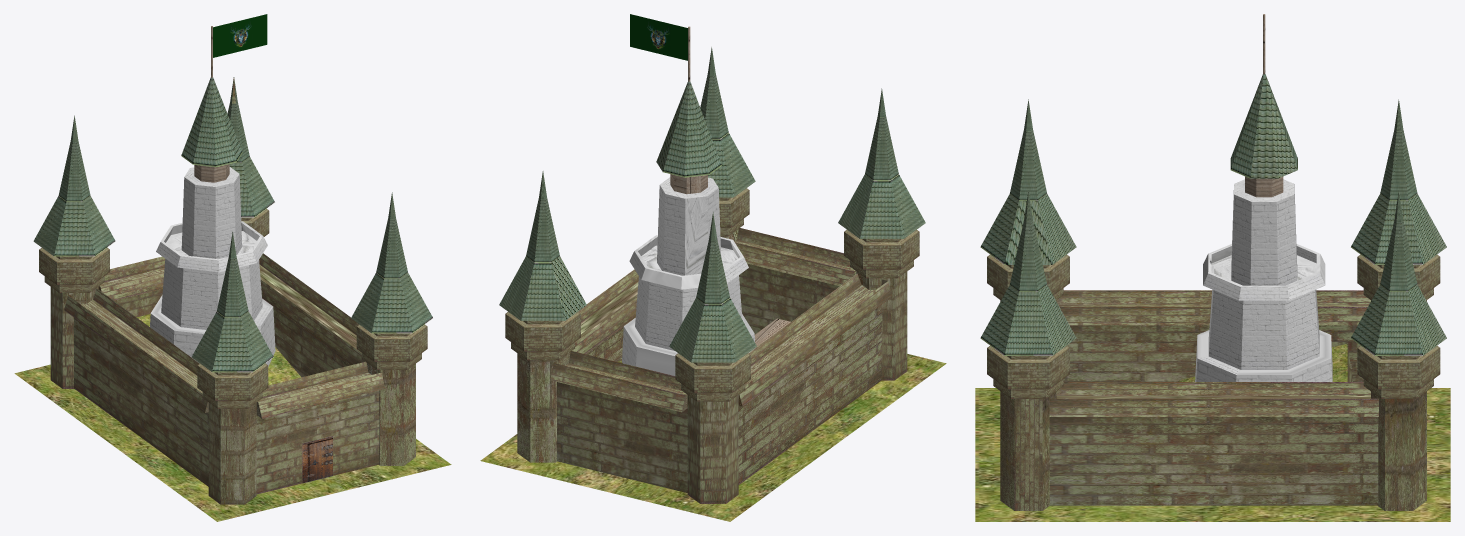
File: ELF_STRONG.fbx
The picture shows the model from 3 angles, left to right: view 1: azimuth 30°, elevation 25°; view 2: azimuth 150°, elevation 25°; view 3: azimuth 270°, elevation 25°; orthographic projection. The views are drawn at different scales.
Visible parts, largest first — view 1: Muro_Izquierda, Edificio, Muro_Delante, Suelo, Muro_Derecha, Torre1_Tejado, Torre2_Tejado, Torre4_Tejado, Torre1_Base, Torre2_Base, Edificio_Tejado, Muro_Detras (+9 smaller); view 2: Muro_Izquierda, Muro_Detras, Edificio, Suelo, Muro_Delante, Torre4_Tejado, Torre1_Tejado, Torre3_Tejado, Torre4_Base, Torre3_Base, Muro_Derecha, Edificio_Tejado (+8 smaller); view 3: Muro_Derecha, Edificio, Muro_Izquierda, Suelo, Torre2_Tejado, Torre3_Tejado, Torre1_Tejado, Torre4_Tejado, Torre2_Base, Torre3_Base, Edificio_Tejado, Torre3_Almena (+5 smaller).
Boxes of the visible parts, x1,y1,x2,y2 form: Muro_Izquierda: (64,288,208,486); Edificio: (150,167,275,366); Muro_Delante: (256,361,385,494); Suelo: (14,364,451,521); Muro_Derecha: (259,253,365,377); Torre1_Tejado: (192,231,273,372); Torre2_Tejado: (351,192,432,333); Torre4_Tejado: (33,115,115,256); Torre1_Base: (208,402,256,504); Torre2_Base: (378,364,415,465); Edificio_Tejado: (181,77,242,167); Muro_Detras: (98,256,165,317); Muro_Izquierda: (738,273,892,484); Muro_Detras: (550,351,687,492); Edificio: (622,177,754,375); Suelo: (480,354,946,521); Muro_Delante: (725,228,856,334); Torre4_Tejado: (669,212,756,362); Torre1_Tejado: (838,88,925,238); Torre3_Tejado: (499,171,586,320); Torre4_Base: (687,395,738,503); Torre3_Base: (517,353,556,462); Muro_Derecha: (572,269,638,361); Edificio_Tejado: (656,81,721,177); Muro_Derecha: (1049,382,1378,505); Edificio: (1195,179,1332,381); Muro_Izquierda: (1056,290,1370,381); Suelo: (975,388,1450,521); Torre2_Tejado: (980,190,1076,355); Torre3_Tejado: (1351,190,1446,355); Torre1_Tejado: (980,99,1076,264); Torre4_Tejado: (1351,99,1446,264); Torre2_Base: (1000,391,1056,510); Torre3_Base: (1371,391,1426,510); Edificio_Tejado: (1230,74,1297,178); Torre3_Almena: (1357,345,1440,398).
Bounding box in the file's own units: 1000 × 1535 × 1500.
